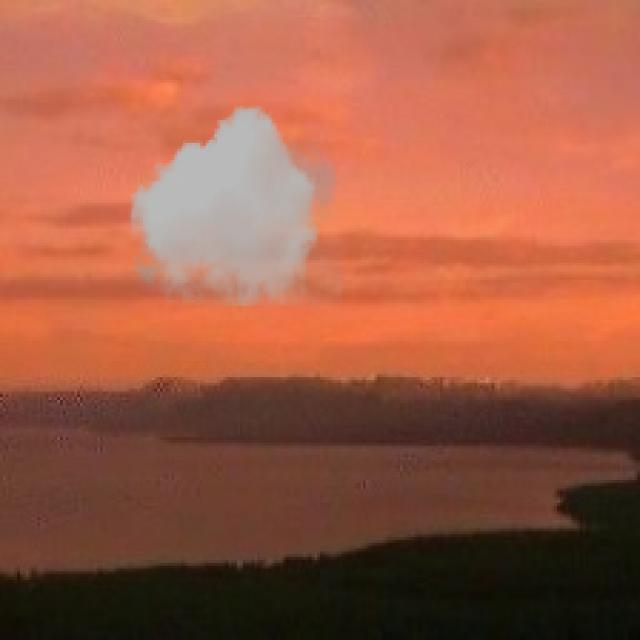smoke: (126, 106, 343, 306)
